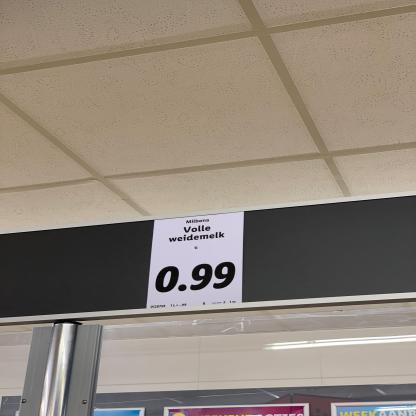prtg: (147, 213, 245, 309)
